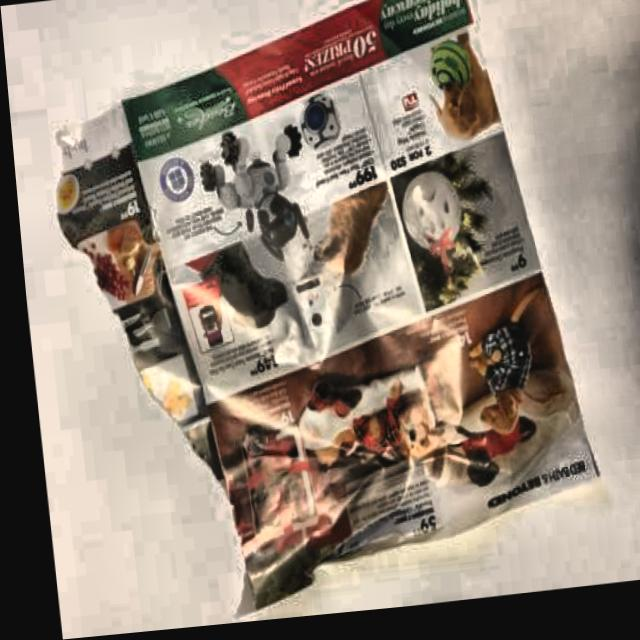Paper: (33, 0, 603, 631)
